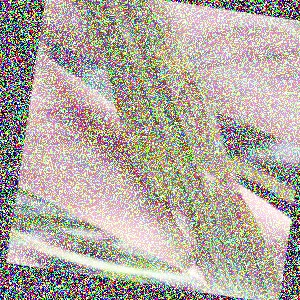Brown_Spot: (136, 193, 214, 259), (168, 78, 206, 109), (179, 104, 213, 137), (195, 167, 223, 200), (221, 174, 251, 198)
